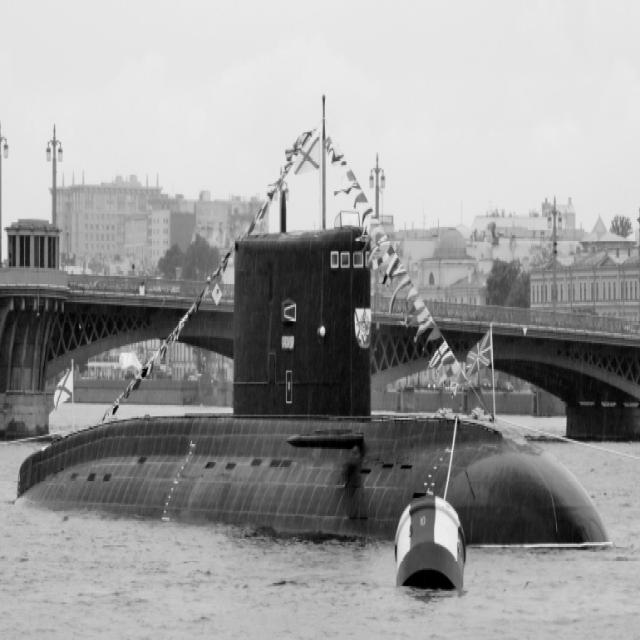submarine: (22, 226, 609, 548)
